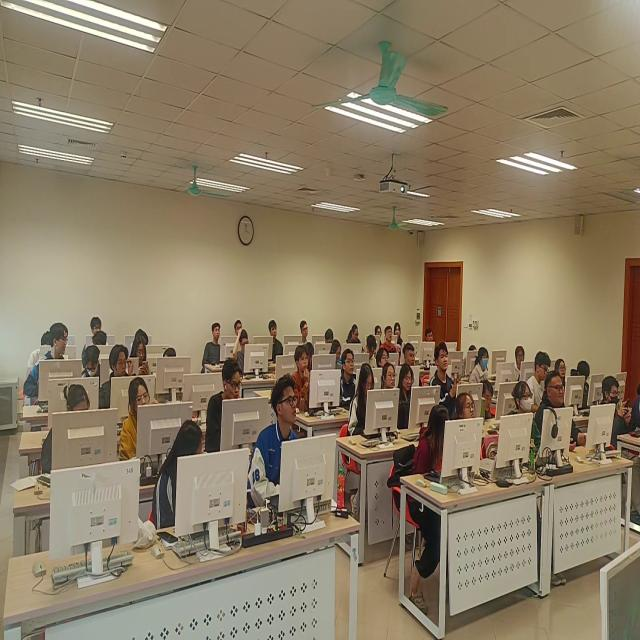raise_head: (251, 377, 302, 513), (153, 418, 206, 527), (536, 372, 587, 453), (205, 356, 245, 454), (507, 383, 544, 455), (431, 343, 465, 411), (103, 344, 129, 407), (201, 319, 223, 369), (341, 349, 358, 407), (453, 393, 482, 424), (470, 348, 493, 384), (380, 357, 399, 392), (269, 319, 284, 362), (630, 376, 640, 436), (383, 324, 397, 355), (515, 345, 527, 380), (403, 342, 419, 365), (377, 344, 391, 366), (555, 357, 569, 379), (89, 314, 104, 334), (299, 317, 310, 343), (394, 320, 404, 346), (235, 317, 244, 336), (426, 325, 436, 341), (374, 321, 383, 338)
using_computer: (42, 381, 91, 474), (120, 376, 159, 465), (348, 361, 377, 449), (528, 350, 553, 409), (291, 342, 311, 412), (28, 328, 52, 375), (398, 363, 414, 422), (234, 328, 253, 375), (576, 362, 593, 408), (82, 342, 103, 377), (364, 332, 379, 371), (329, 337, 342, 369), (346, 324, 365, 345), (92, 329, 110, 350), (306, 338, 316, 369), (325, 329, 336, 348), (471, 342, 478, 357)
using_phone: (598, 375, 631, 446), (131, 337, 152, 376)
